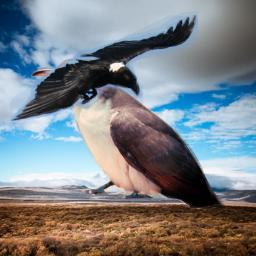Crow: (10, 12, 198, 121)
Cuckoo: (31, 59, 225, 209)
